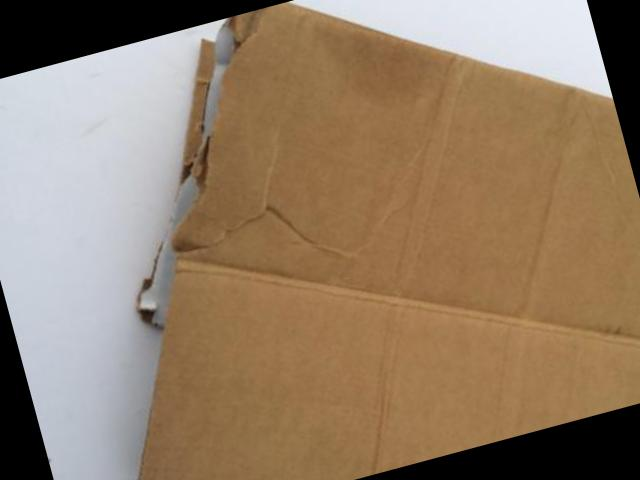cardboard paper: (139, 1, 640, 480)
